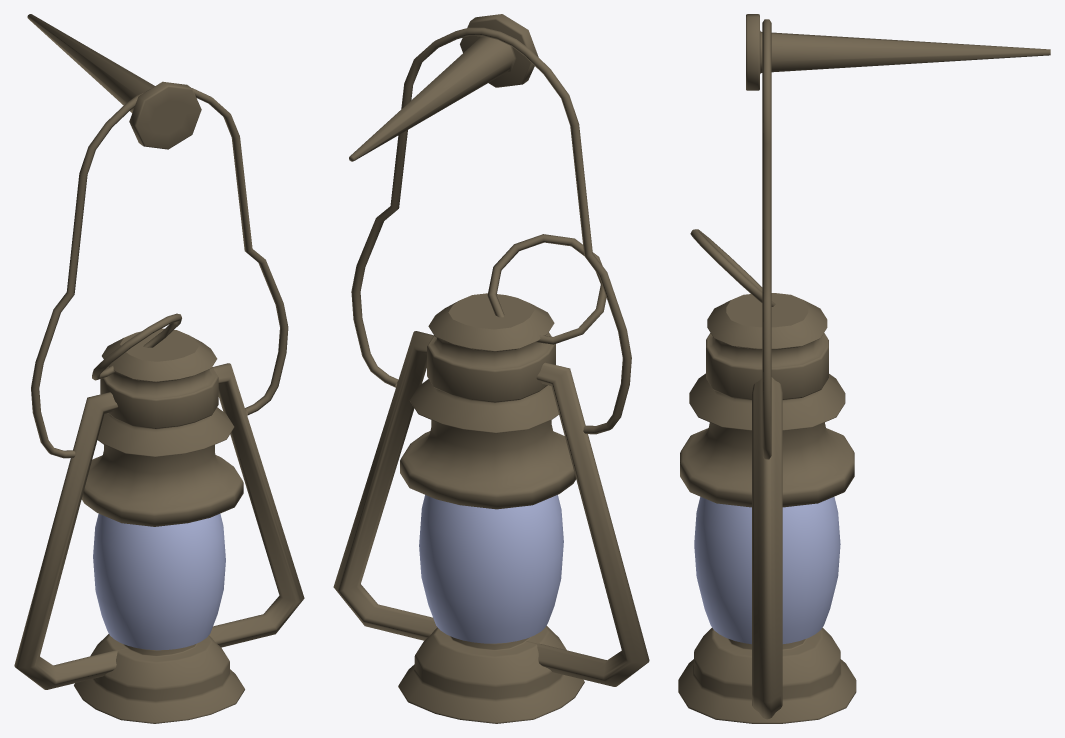
The model's file is Lamp.fbx.
3 renders of one model, left to right at view 1: azimuth 30°, elevation 25°; view 2: azimuth 150°, elevation 25°; view 3: azimuth 270°, elevation 25°, orthographic. The views are drawn at different scales.
Parts seen in each view (by area): view 1: Cylinder; view 2: Cylinder; view 3: Cylinder.
Part boxes in pixels (box(x1,y1,x2,y2)): Cylinder: box(14, 14, 304, 723); Cylinder: box(333, 14, 649, 723); Cylinder: box(678, 14, 1050, 723).
Bounding box in the file's own units: 23.66 × 47.75 × 24.06.
